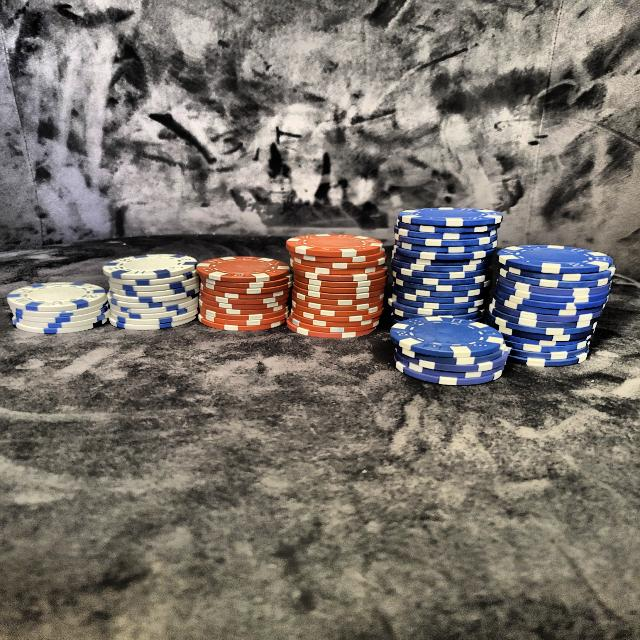Chip: (384, 192, 501, 342), (494, 232, 614, 378), (279, 218, 395, 346), (192, 244, 298, 337), (386, 312, 512, 388), (10, 255, 120, 340), (106, 245, 204, 332)
